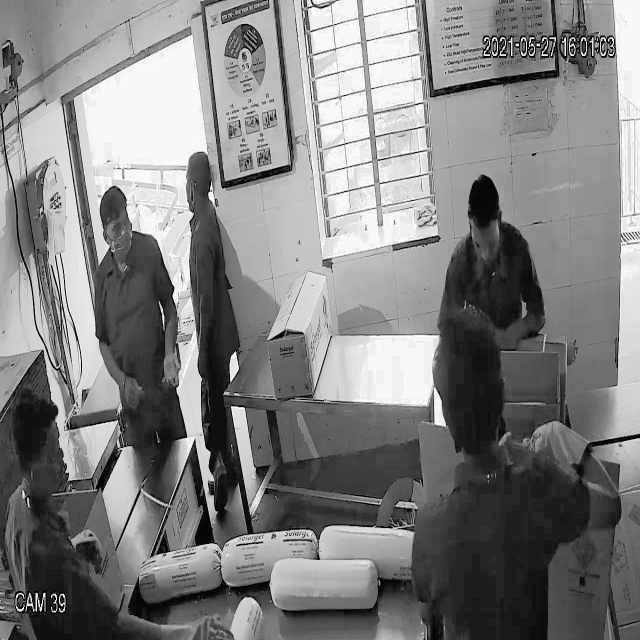Sin_gafas: (98, 211, 134, 240)
